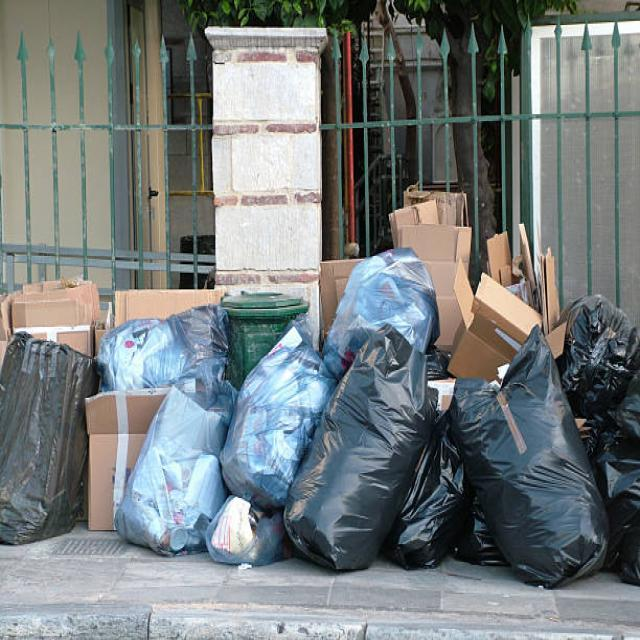garbage: (0, 175, 640, 592)
